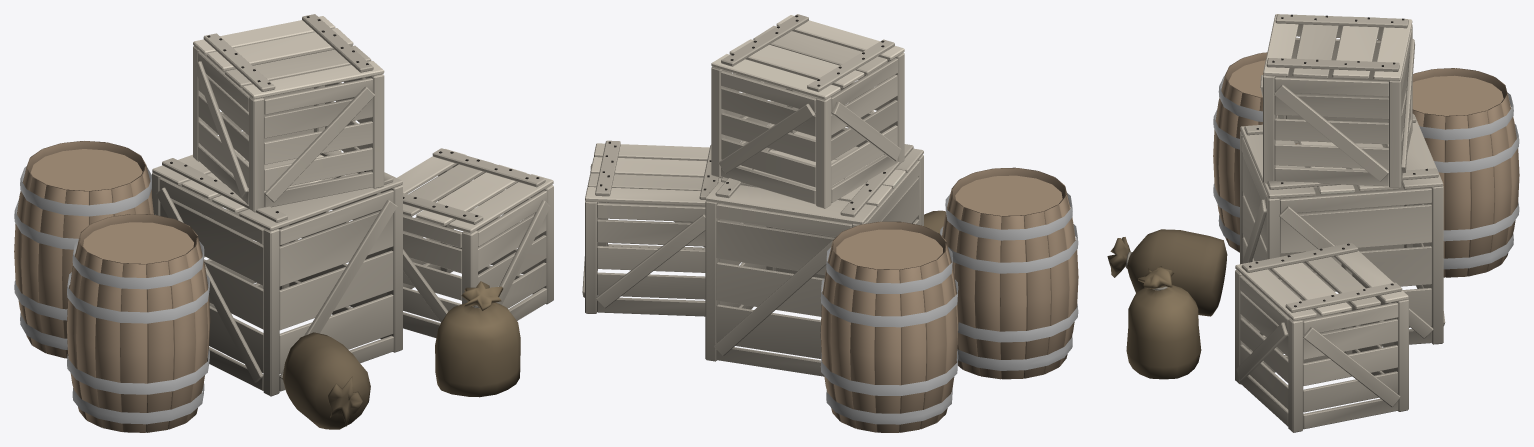
Rendered from heap_crates.glb.
3 renders of one model, left to right at view 1: azimuth 30°, elevation 25°; view 2: azimuth 150°, elevation 25°; view 3: azimuth 270°, elevation 25°, orthographic. The views are drawn at different scales.
Parts seen in each view (by area): view 1: heap_crates; view 2: heap_crates; view 3: heap_crates.
Boxes of the visible parts, x1,y1,x2,y2 form: heap_crates: (14, 14, 553, 432); heap_crates: (582, 14, 1078, 432); heap_crates: (1107, 14, 1519, 432).
Size of what is drawn, in the model's own units: 2.7 by 1.63 by 2.08.
